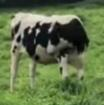cow: (11, 13, 87, 93)
